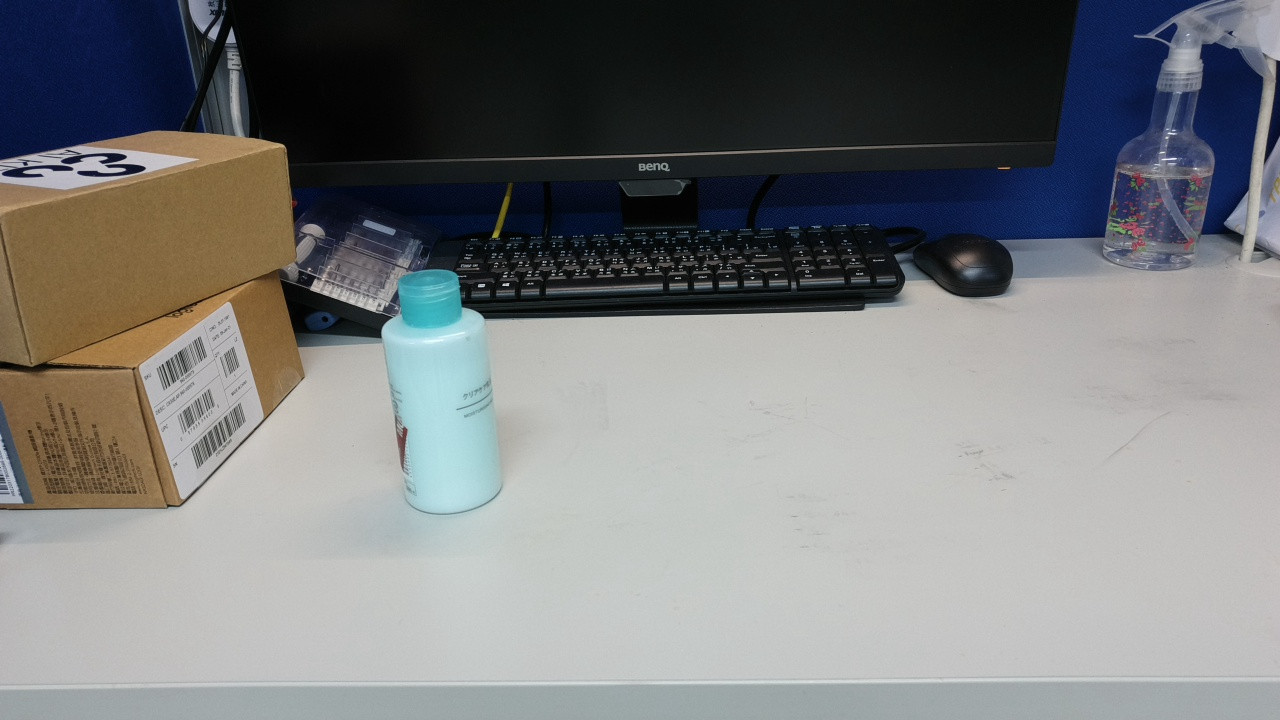long: (704, 553, 1061, 655)
